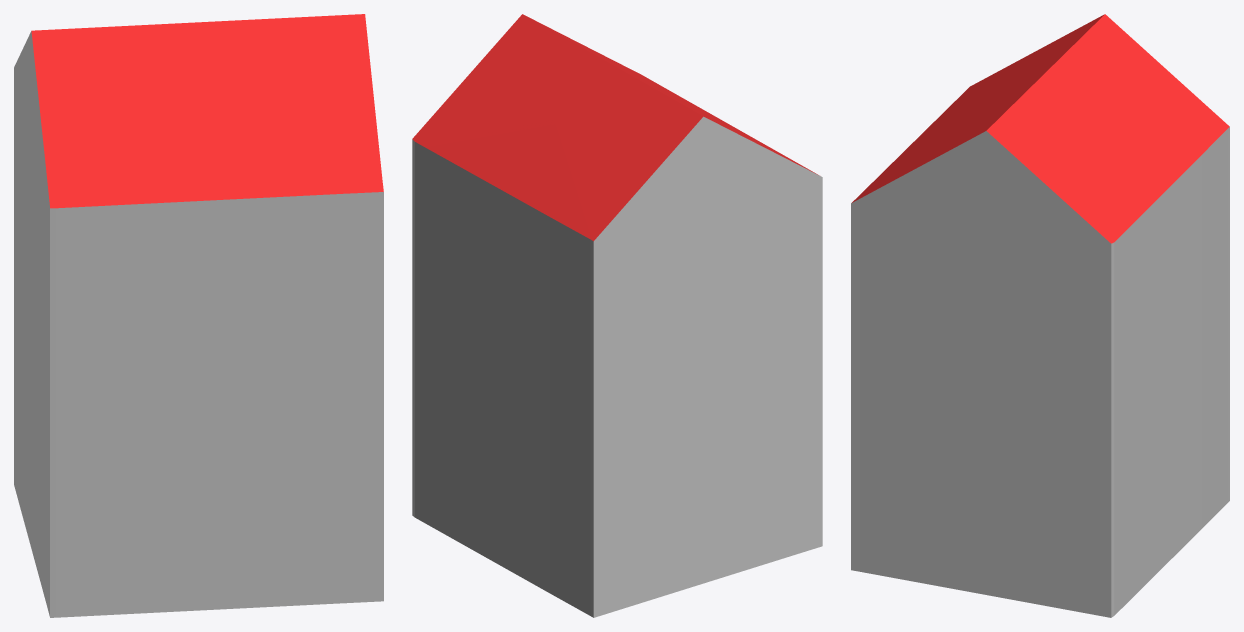
File: DEBY_LOD2_4907172.dae
The picture shows the model from 3 angles, left to right: view 1: azimuth 30°, elevation 25°; view 2: azimuth 150°, elevation 25°; view 3: azimuth 270°, elevation 25°; orthographic projection. The views are drawn at different scales.
Size of the model in its own units: 17.13 by 16.66 by 22.52.
